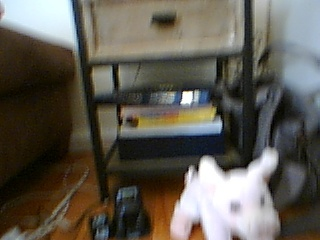piggy: (167, 146, 283, 240)
